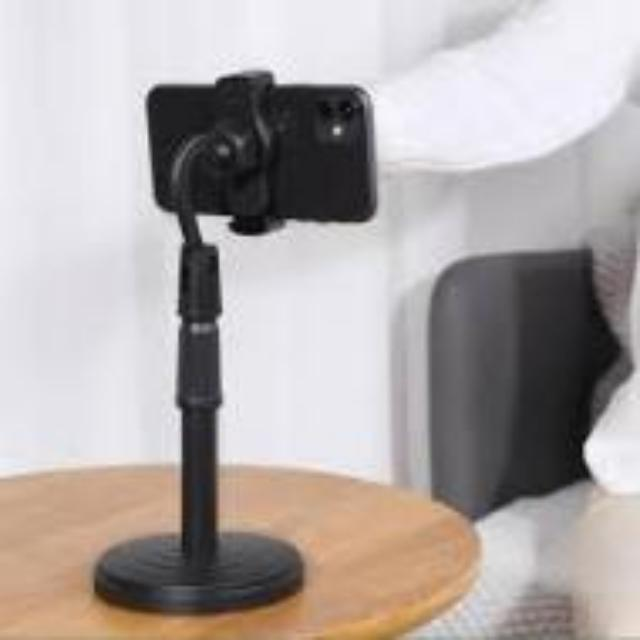phone: (113, 70, 407, 243)
